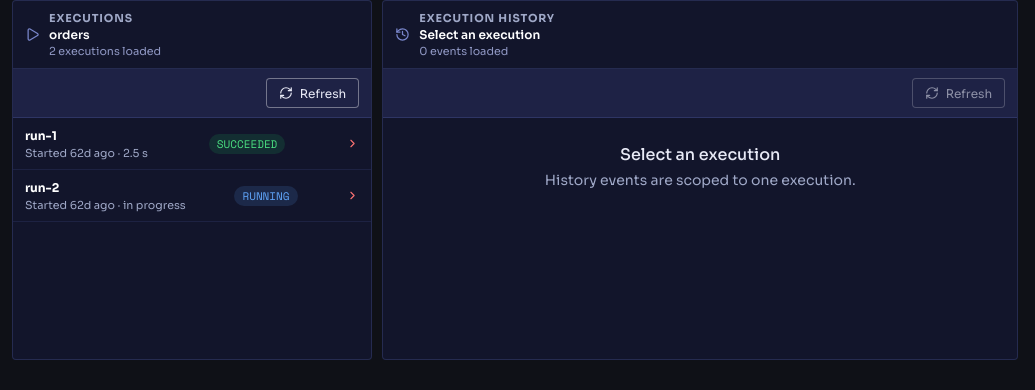
Test case: WorkflowExecutionsPanel › shows the history of a clicked execution and expands an event to its details
What coordinates should you click on to do the following:
click the text "run-1"
I would click on:
 (41, 135)
Its box is [25,128,57,142].
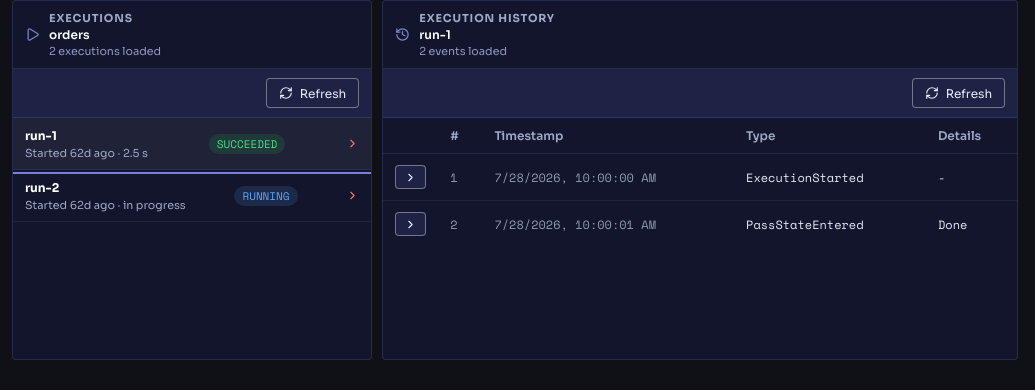
Expected: the text "ExecutionStarted" is shown, [734,154,926,200]
Expected: the text "PassStateEntered" is shown, [734,200,926,247]
Expected: the text "Done" is shown, [926,200,1017,247]
What coordinates should you click on to do the following:
click the button named "expand event details" in the row of "7/28/2026, 10:00:01 AM"
I would click on:
 (411, 224)
Its box is [395,212,426,236].
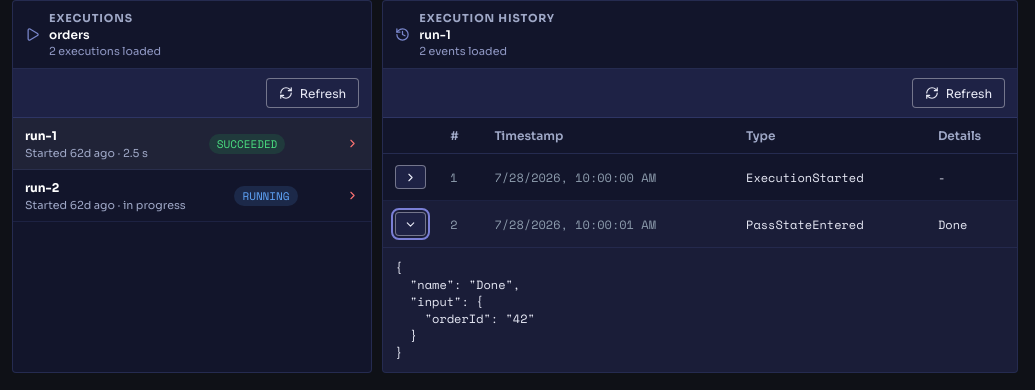
Expected: the text "{ \"name\": \"Done\", \"input\": { \"orderId\": \"42\" } }" is shown, [395,259,535,361]
